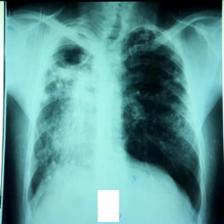tuberculosis: (19, 23, 202, 214)
